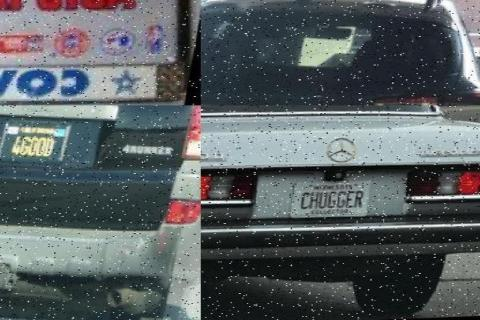LicensePlate: (0, 0, 194, 43), (2, 113, 72, 164), (290, 182, 374, 219)
